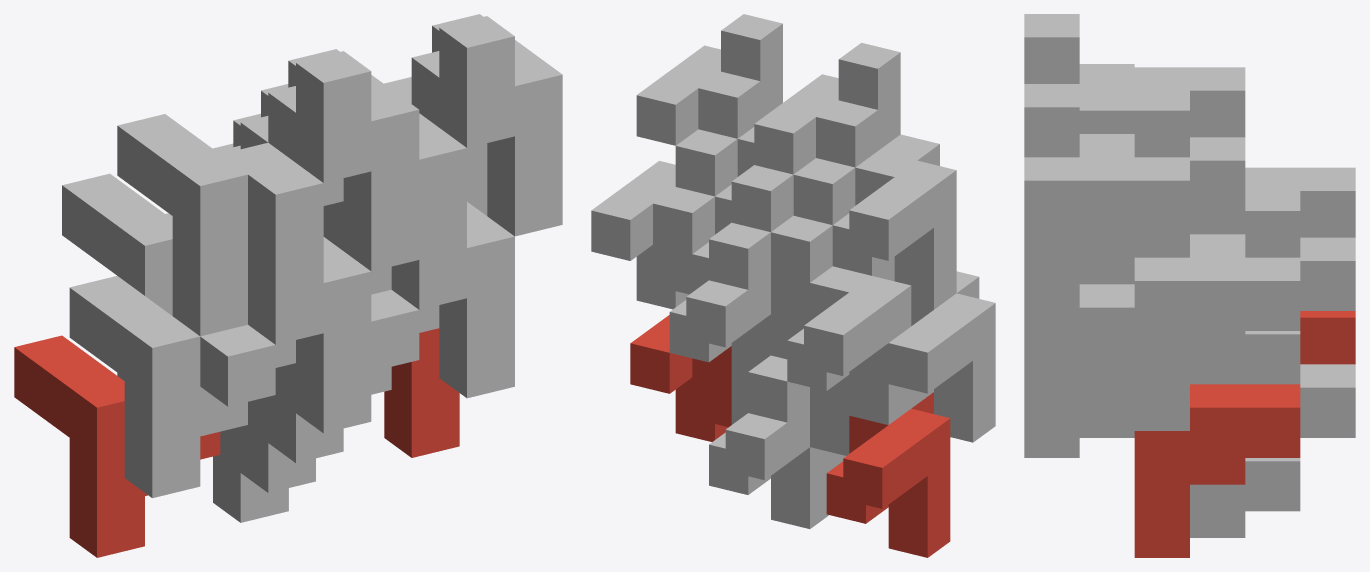
File: tiling.obj
3 views of the same model, side by side, from view 1: azimuth 30°, elevation 25°; view 2: azimuth 150°, elevation 25°; view 3: azimuth 270°, elevation 25° (orthographic). The views are drawn at different scales.
Parts seen in each view (by area): view 1: copy_1_domain_2, copy_1_domain_4, copy_2_domain_4, copy_2_domain_8, copy_2_domain_2, copy_2_domain_6, copy_1_domain_1, copy_1_domain_3, copy_1_domain_6, copy_2_domain_5, copy_1_domain_8, copy_2_domain_1 (+3 smaller); view 2: copy_1_domain_4, copy_2_domain_7, copy_1_domain_1, copy_1_domain_3, copy_2_domain_4, copy_2_domain_8, copy_1_domain_2, copy_2_domain_3, copy_1_domain_5, copy_1_domain_7, copy_2_domain_5, copy_2_domain_1 (+2 smaller); view 3: copy_2_domain_8, copy_2_domain_7, copy_2_domain_5, copy_2_domain_6, copy_2_domain_4, copy_1_domain_5, copy_1_domain_7, copy_1_domain_8, copy_2_domain_3, copy_1_domain_4, copy_1_domain_3, copy_1_domain_1 (+1 smaller).
Boxes of the visible parts, x1,y1,x2,y2 form: copy_1_domain_2: (69, 276, 275, 498); copy_1_domain_4: (117, 114, 323, 336); copy_2_domain_4: (268, 49, 419, 271); copy_2_domain_8: (411, 14, 562, 236); copy_2_domain_2: (248, 225, 371, 433); copy_2_domain_6: (391, 198, 514, 398); copy_1_domain_1: (14, 335, 220, 557); copy_1_domain_3: (62, 173, 172, 380); copy_1_domain_6: (268, 289, 419, 462); copy_2_domain_5: (384, 328, 459, 457); copy_1_domain_8: (261, 84, 466, 294); copy_2_domain_1: (240, 397, 315, 492); copy_1_domain_4: (832, 134, 956, 309); copy_2_domain_7: (591, 129, 737, 309); copy_1_domain_1: (826, 392, 950, 557); copy_1_domain_3: (787, 259, 911, 424); copy_2_domain_4: (754, 42, 900, 174); copy_2_domain_8: (636, 14, 782, 145); copy_1_domain_2: (888, 271, 995, 442); copy_2_domain_3: (709, 158, 855, 322); copy_1_domain_5: (709, 387, 832, 528); copy_1_domain_7: (669, 242, 770, 390); copy_2_domain_5: (630, 315, 731, 441); copy_2_domain_1: (748, 355, 849, 468); copy_2_domain_8: (1024, 84, 1189, 330); copy_2_domain_7: (1134, 231, 1300, 430); copy_2_domain_5: (1134, 384, 1300, 557); copy_2_domain_6: (1024, 284, 1134, 457); copy_2_domain_4: (1024, 14, 1189, 157); copy_1_domain_5: (1190, 364, 1355, 537); copy_1_domain_7: (1190, 237, 1355, 384); copy_1_domain_8: (1079, 137, 1245, 284); copy_2_domain_3: (1190, 187, 1300, 257); copy_1_domain_4: (1134, 67, 1245, 137); copy_1_domain_3: (1245, 167, 1355, 237); copy_1_domain_1: (1300, 311, 1355, 364).
Bounding box in the file's own units: 8 × 10 × 6.
